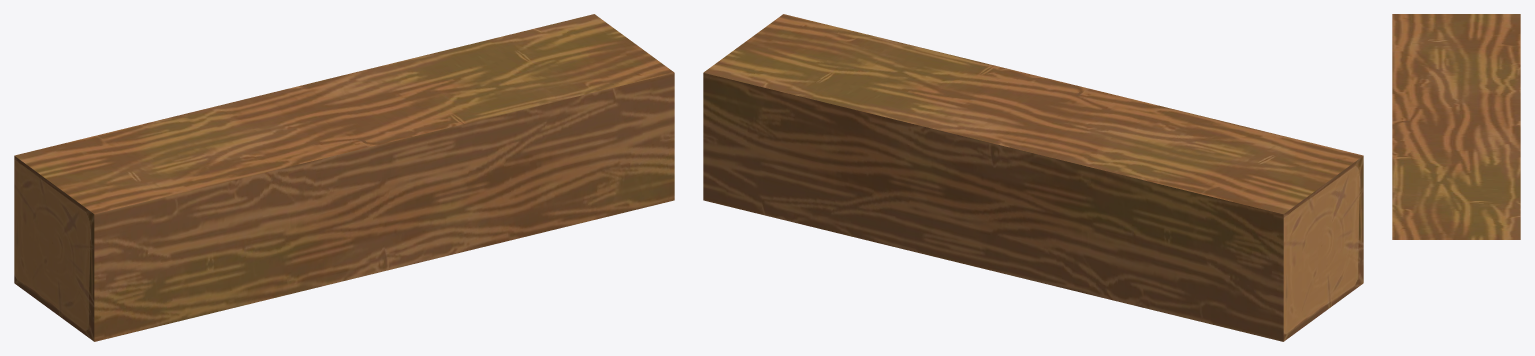
The model's file is holecover-straighthalf.glb.
3 renders of one model, left to right at view 1: azimuth 30°, elevation 25°; view 2: azimuth 150°, elevation 25°; view 3: azimuth 270°, elevation 25°, orthographic. The views are drawn at different scales.
Parts seen in each view (by area): view 1: HoleCover_StraightHalf; view 2: HoleCover_StraightHalf; view 3: HoleCover_StraightHalf.
Boxes of the visible parts, bbox=[...] form: HoleCover_StraightHalf: bbox=[14, 14, 674, 341]; HoleCover_StraightHalf: bbox=[703, 14, 1363, 341]; HoleCover_StraightHalf: bbox=[1392, 14, 1520, 239].
Size of the model in its own units: 1 by 0.2102 by 0.2396.
1 material, 1 textured.
